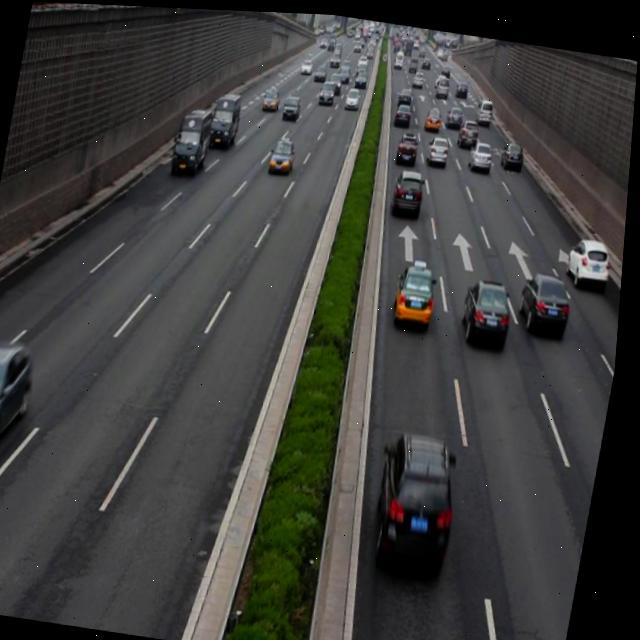car: (373, 423, 471, 565), (0, 335, 42, 462), (518, 263, 578, 336), (462, 272, 519, 345), (393, 256, 442, 324), (566, 226, 615, 282), (268, 132, 298, 172), (395, 124, 423, 164), (469, 134, 497, 169), (501, 133, 528, 168), (426, 130, 452, 164), (457, 112, 481, 143)
truck: (170, 103, 216, 174), (206, 86, 245, 149), (391, 162, 428, 213)
